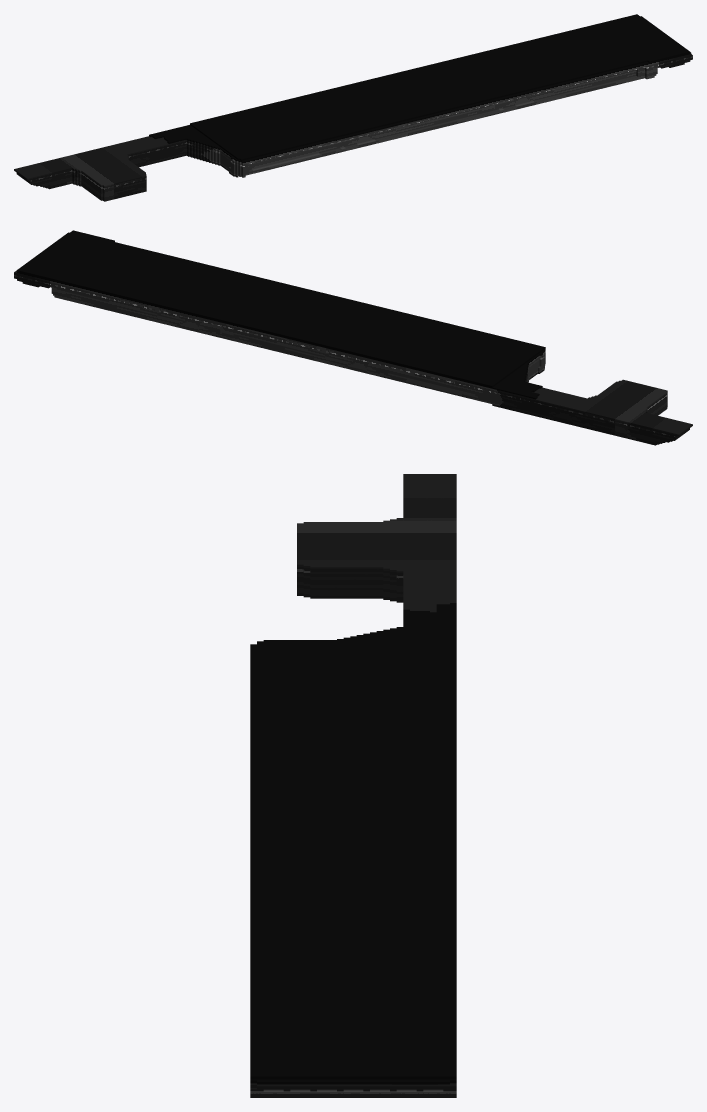
Rendered from floor4.glb.
3 renders of one model, top to bottom at view 1: azimuth 30°, elevation 25°; view 2: azimuth 150°, elevation 25°; view 3: azimuth 270°, elevation 25°, orthographic. The views are drawn at different scales.
Parts seen in each view (by area): view 1: floor 4; view 2: floor 4; view 3: floor 4.
Boxes of the visible parts, x1,y1,x2,y2 form: floor 4: (14,14,692,201); floor 4: (14,230,692,445); floor 4: (250,474,456,1097).
Size of the model in its own units: 2.54 by 0.0718 by 0.3621.
1 material, 1 textured.
